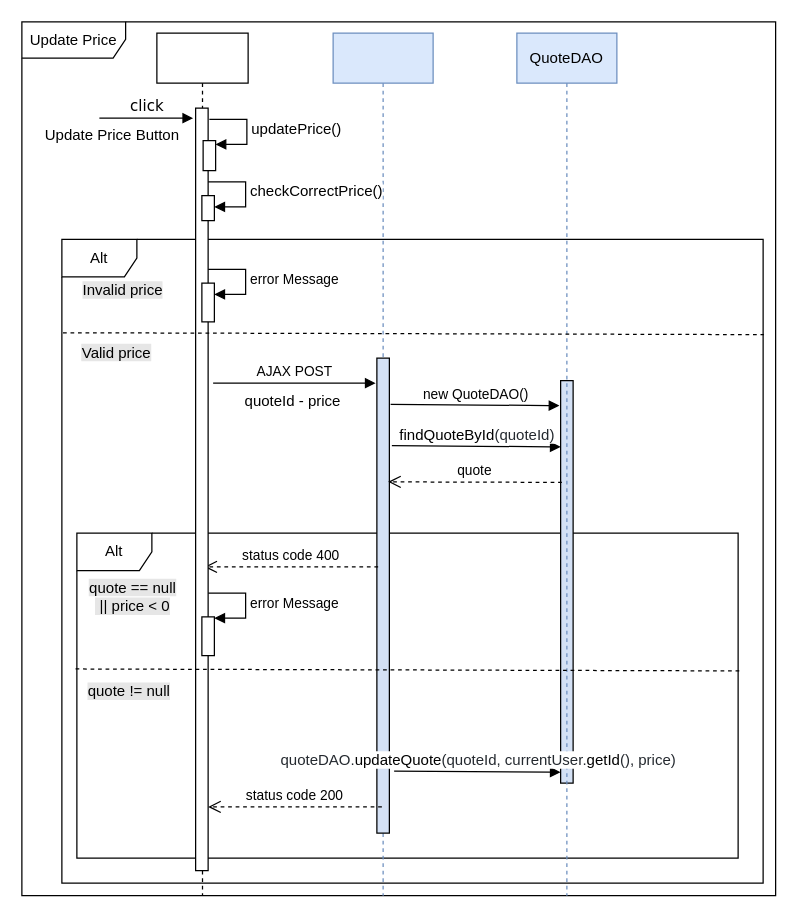
Image size: 798x918. Some labels were removed from this diagram. The box of each missing label's shape, as (x1, y1, x2, y2) in pixels:
QuotesList: (156, 32, 248, 896)
UpdatePrice: (332, 32, 433, 896)
